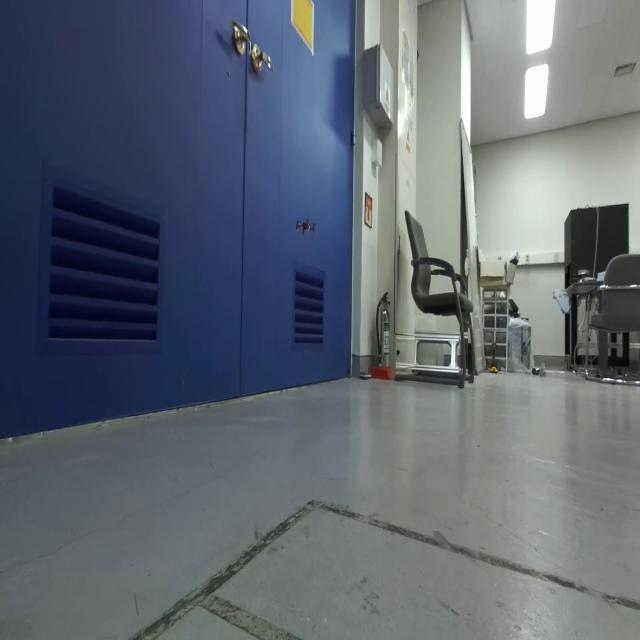crazyflie: (294, 213, 318, 243)
